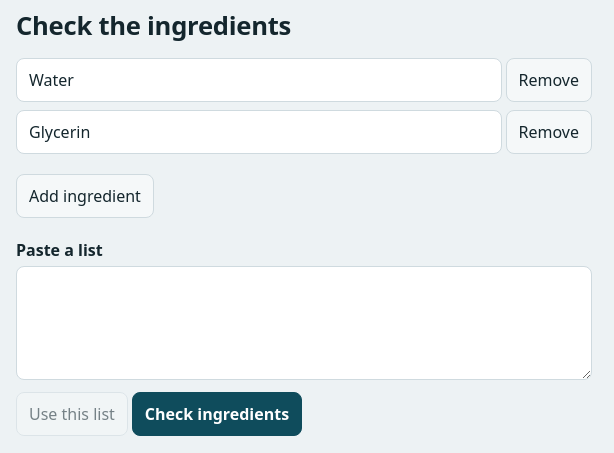
it: review: rows are labelled and removable
Expected: the 2nd field named "Ingredient 2" holds "Glycerin", [16,110,502,154]
Click the button with aria-label "Remove Water".
click(549, 80)  # box [506,58,592,102]
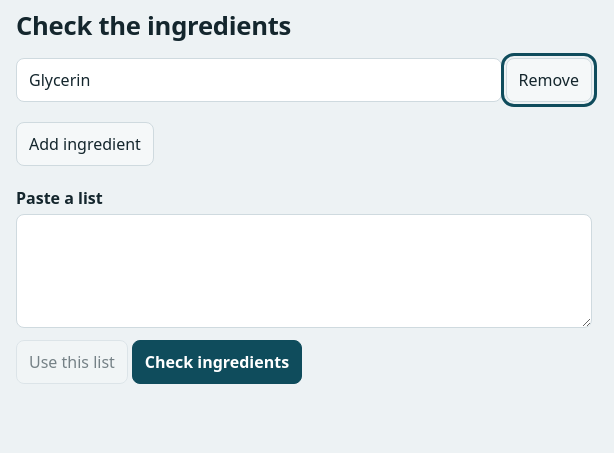
Expected: the field showing "Water" is not shown
Expected: the field named "Ingredient 1" holds "Glycerin", [16,58,502,102]
